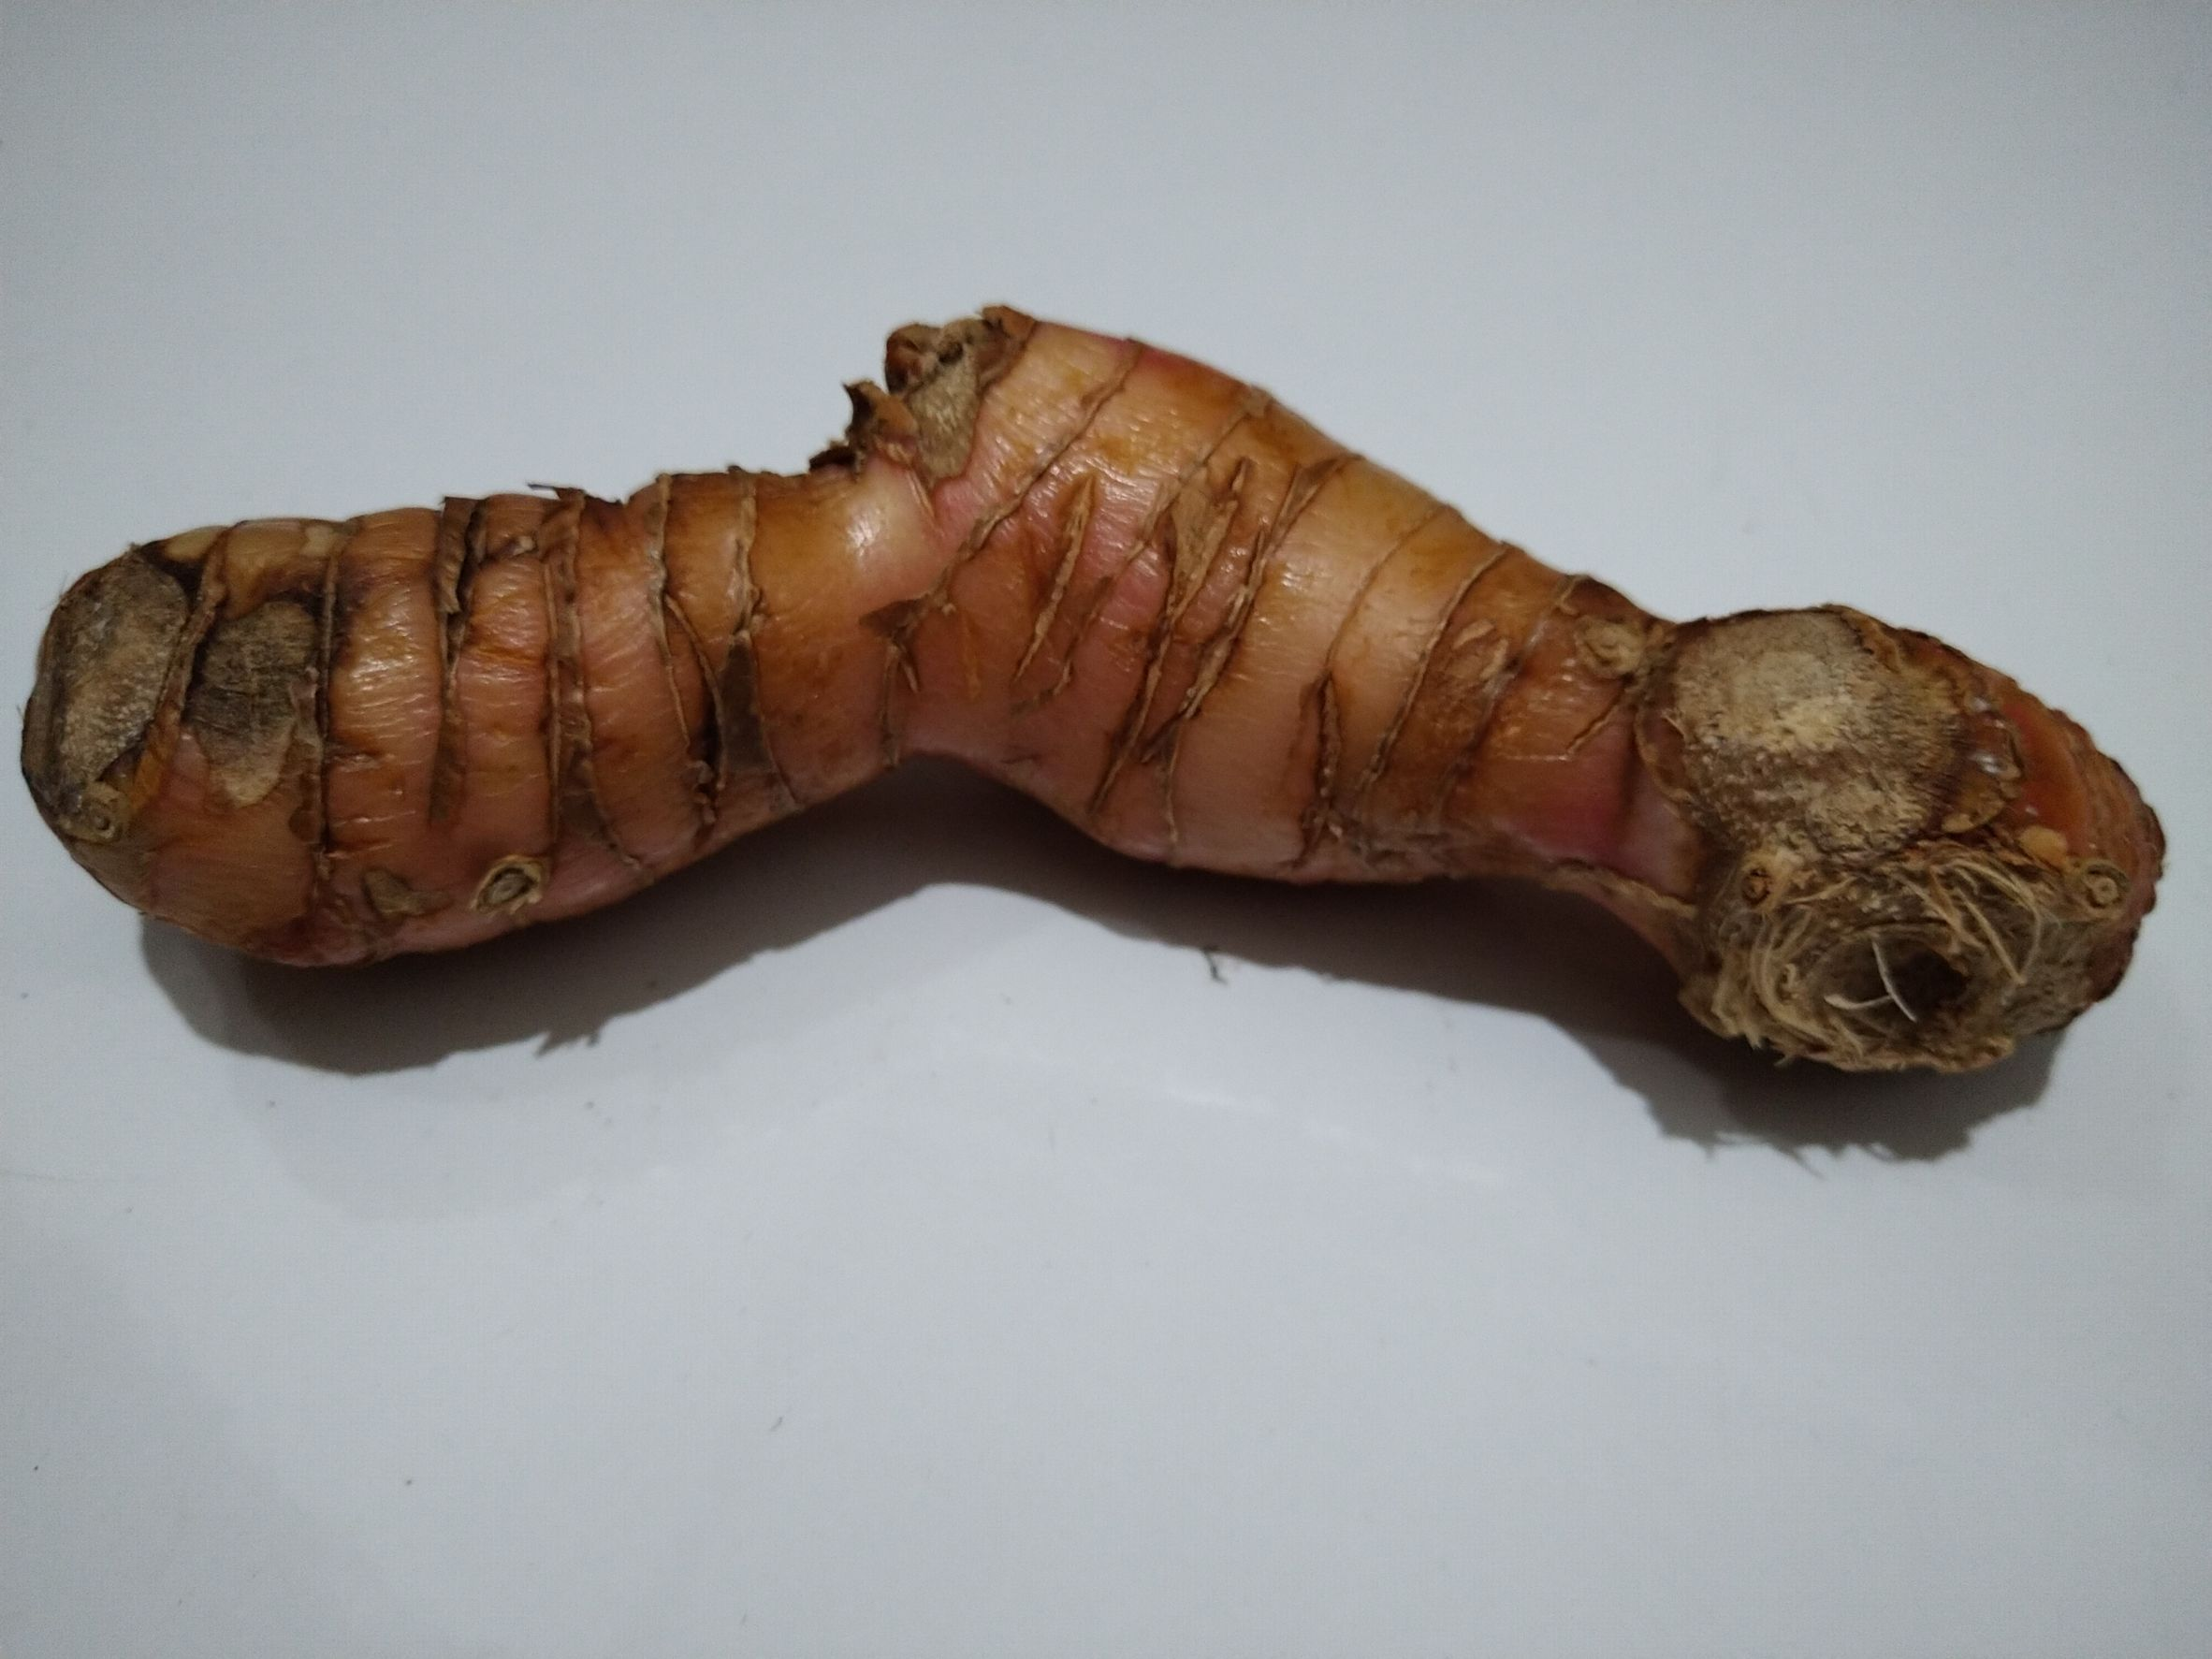Lengkuas: (33, 308, 2177, 1175)
